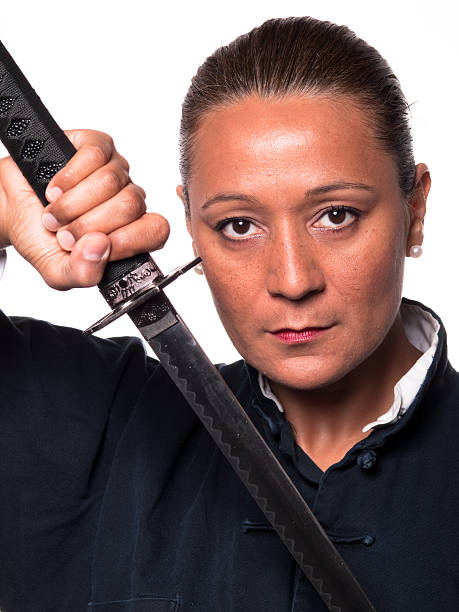knife: (0, 35, 384, 612)
